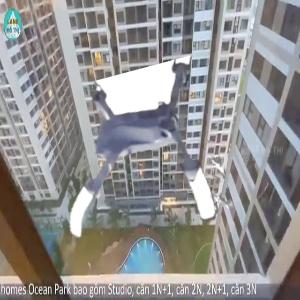drone: (46, 75, 221, 250)
